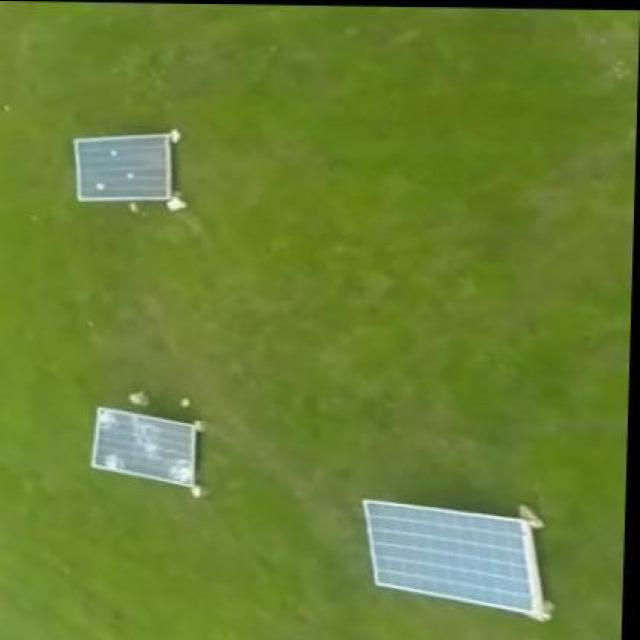cracked: (86, 405, 208, 489)
soiled: (70, 133, 183, 204)
